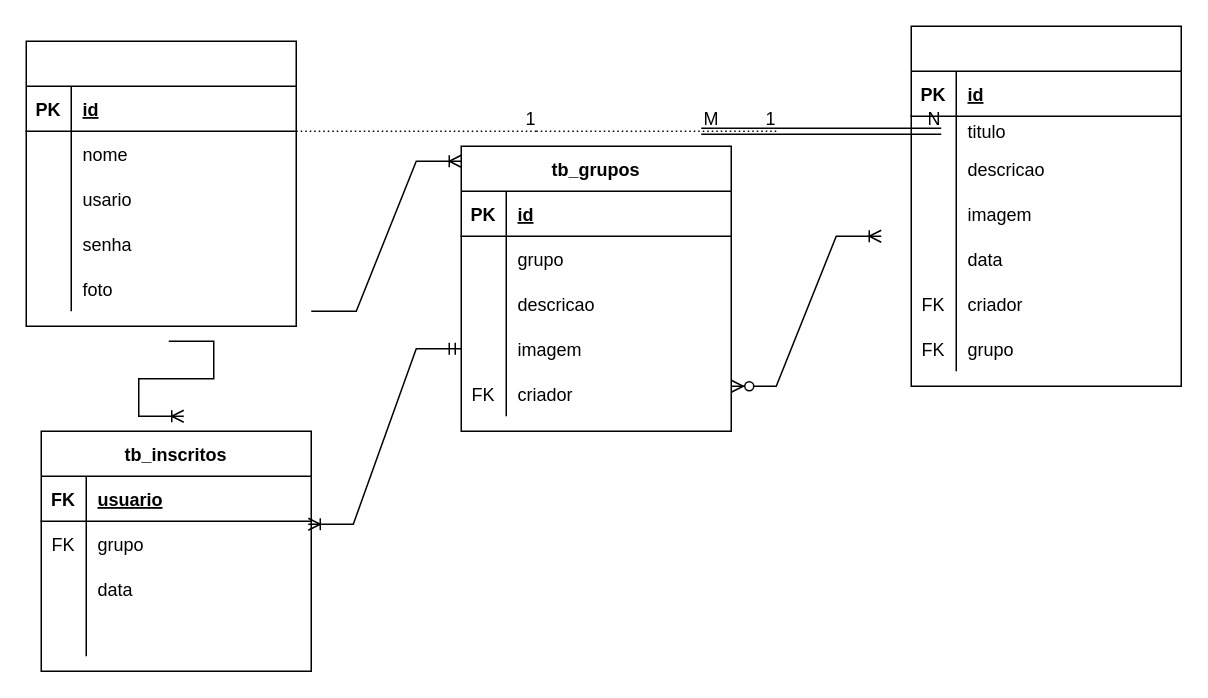
The diagram is 1208 pixels wide and 698 high, and some of its shapes have lost their labels. Each missing label, with the box of its shape:
tb_postagens: (910, 25, 1181, 386)
tb_usuarios: (25, 40, 296, 326)
